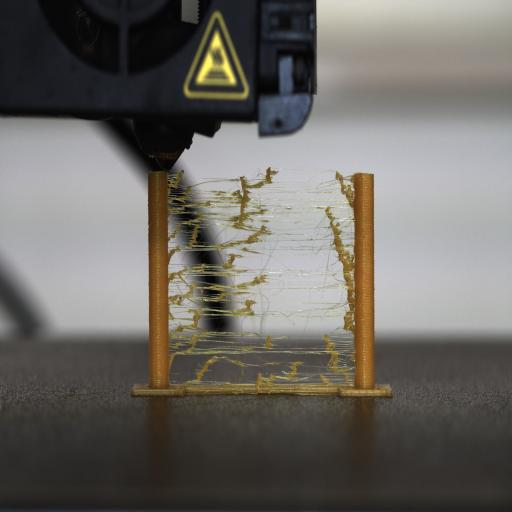stringing: (166, 171, 356, 387)
